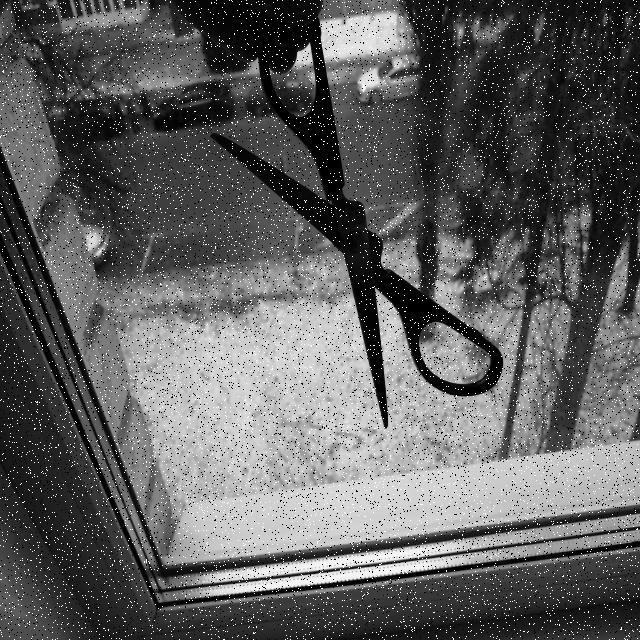scissors: (206, 0, 509, 438)
